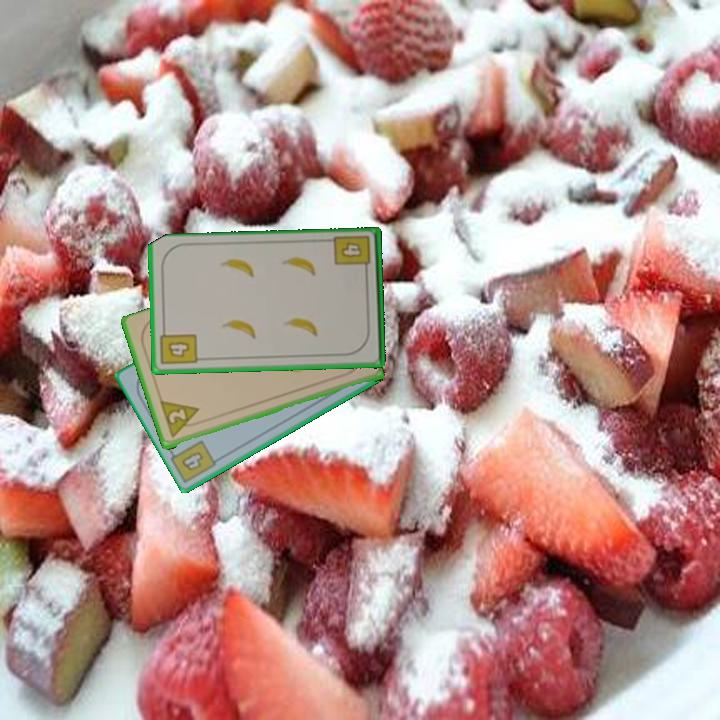2p: (156, 398, 205, 441)
4b: (331, 233, 374, 277), (157, 325, 200, 367), (178, 448, 206, 474)
